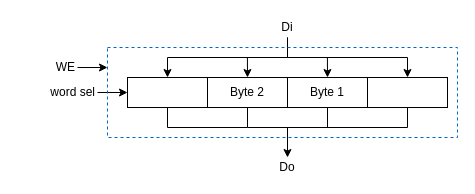
Image size: 475x194. Some labels were removed from this diagram. The shapes that lost their labels are listed below. From the top down, each one's centre as x and y in pixels, then its label:
At (x=167, y=92): "Byte 3".
At (x=407, y=92): "Byte 0".
